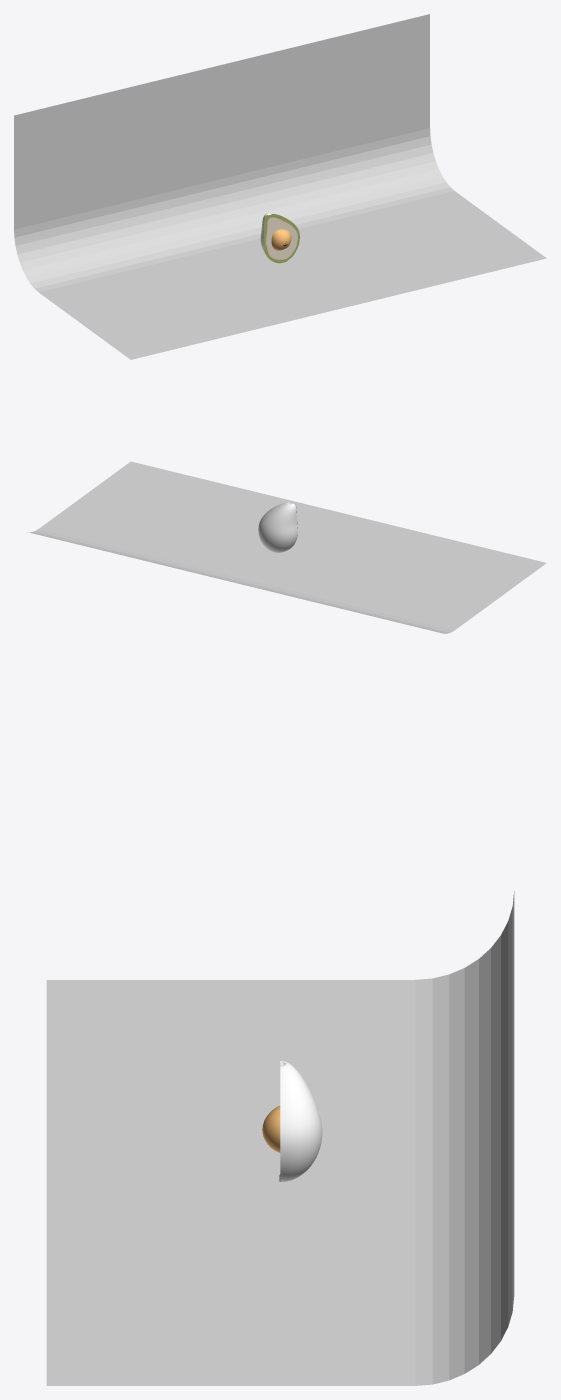
Rendered from Avocat.glb.
The picture shows the model from 3 angles, top to bottom: view 1: azimuth 30°, elevation 25°; view 2: azimuth 150°, elevation 25°; view 3: azimuth 270°, elevation 25°; orthographic projection. The views are drawn at different scales.
Visible parts, largest first — view 1: Plane, Avocado mesh.001; view 2: Plane, Avocado mesh; view 3: Plane, Avocado mesh.
Part boxes in pixels (x1,y1,x2,y2): Plane: (14, 14, 546, 359); Avocado mesh.001: (263, 214, 299, 263); Plane: (27, 461, 546, 633); Avocado mesh: (258, 502, 297, 552); Plane: (46, 891, 514, 1385); Avocado mesh: (280, 1060, 322, 1182).
Size of the model in its own units: 38.97 by 14.22 by 18.96.
3 materials, 2 textured.
